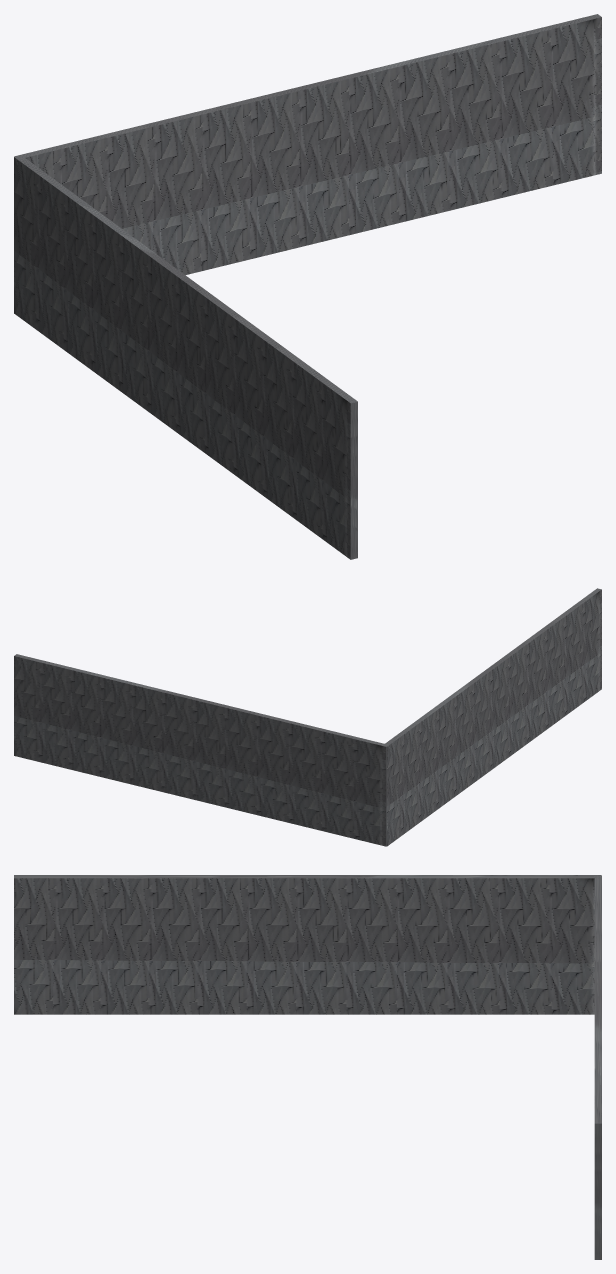
Rendered from paredes.obj.
3 renders of one model, top to bottom at view 1: azimuth 30°, elevation 25°; view 2: azimuth 150°, elevation 25°; view 3: azimuth 270°, elevation 25°, orthographic. The views are drawn at different scales.
Visible parts, largest first — view 1: paredes_Cube.001; view 2: paredes_Cube.001; view 3: paredes_Cube.001.
Part boxes in pixels (<box>): paredes_Cube.001: <box>14,14,601,559</box>; paredes_Cube.001: <box>14,588,601,846</box>; paredes_Cube.001: <box>14,875,601,1259</box>.
Size of the model in its own units: 271 by 69.35 by 271.
